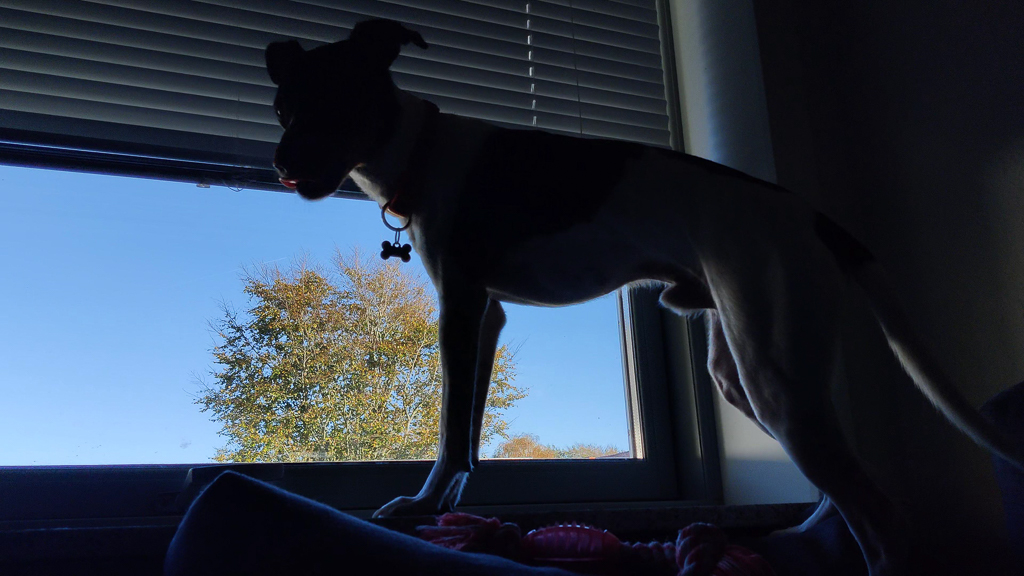Dog: (238, 9, 1024, 576)
